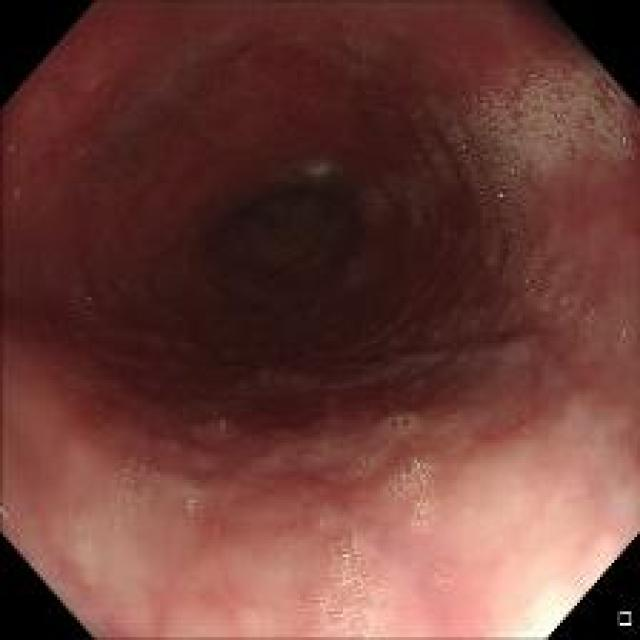bubbles: (431, 51, 628, 200), (460, 205, 614, 338), (356, 408, 444, 535), (316, 532, 394, 632), (115, 452, 156, 505), (305, 591, 346, 634), (346, 29, 380, 76), (402, 156, 434, 205), (350, 449, 384, 476), (382, 330, 399, 380), (424, 561, 455, 588), (178, 489, 206, 518), (605, 324, 635, 349), (72, 290, 100, 315), (6, 181, 28, 204), (214, 416, 236, 436), (315, 435, 332, 450)
contrast: (111, 115, 500, 382)
saturation: (505, 589, 571, 632)
